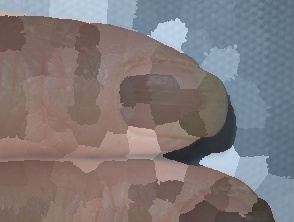Nail_psoriasis: (0, 0, 251, 188), (150, 171, 284, 222)
